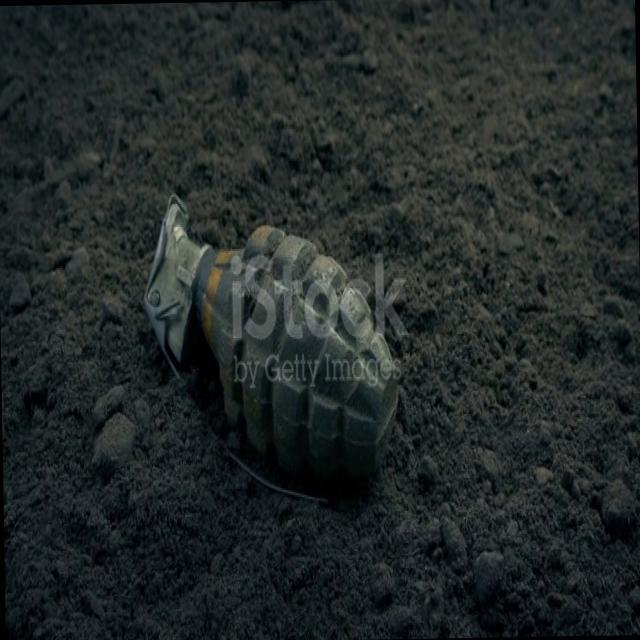grenade: (142, 192, 398, 500)
